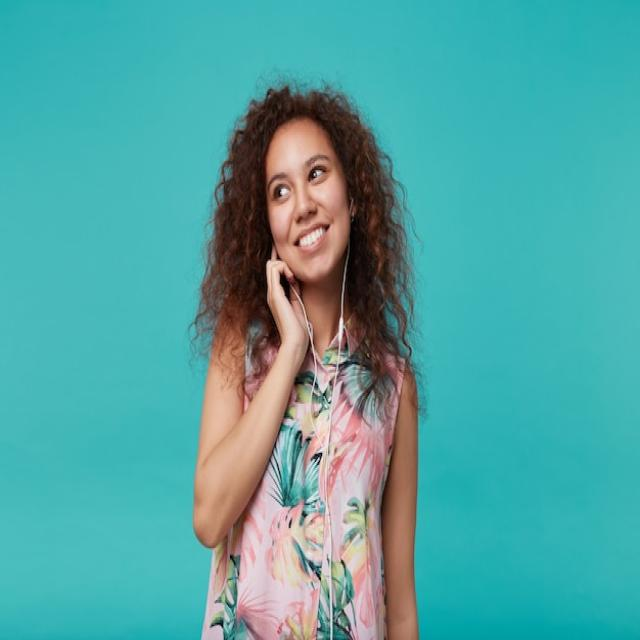Earphone: (289, 190, 355, 640)
